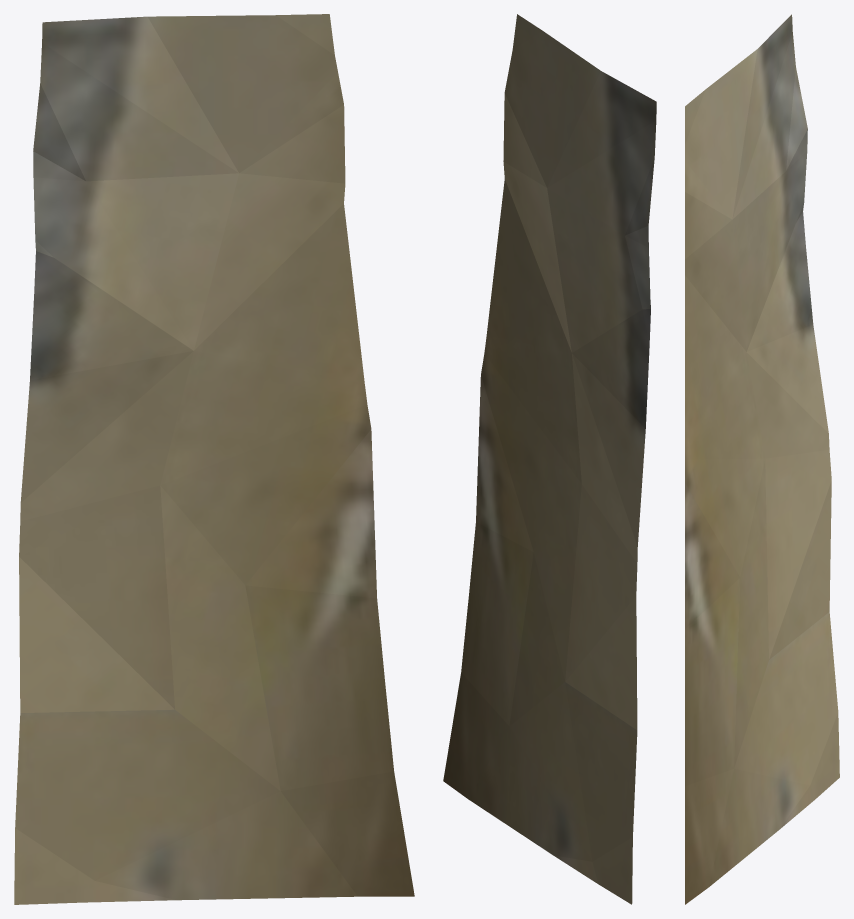
The picture shows the model from 3 angles, left to right: view 1: azimuth 30°, elevation 25°; view 2: azimuth 150°, elevation 25°; view 3: azimuth 270°, elevation 25°; orthographic projection. The views are drawn at different scales.
Size of the model in its own units: 0.2997 by 0.8373 by 0.1539.
Materials: 1 (1 with a texture image).
